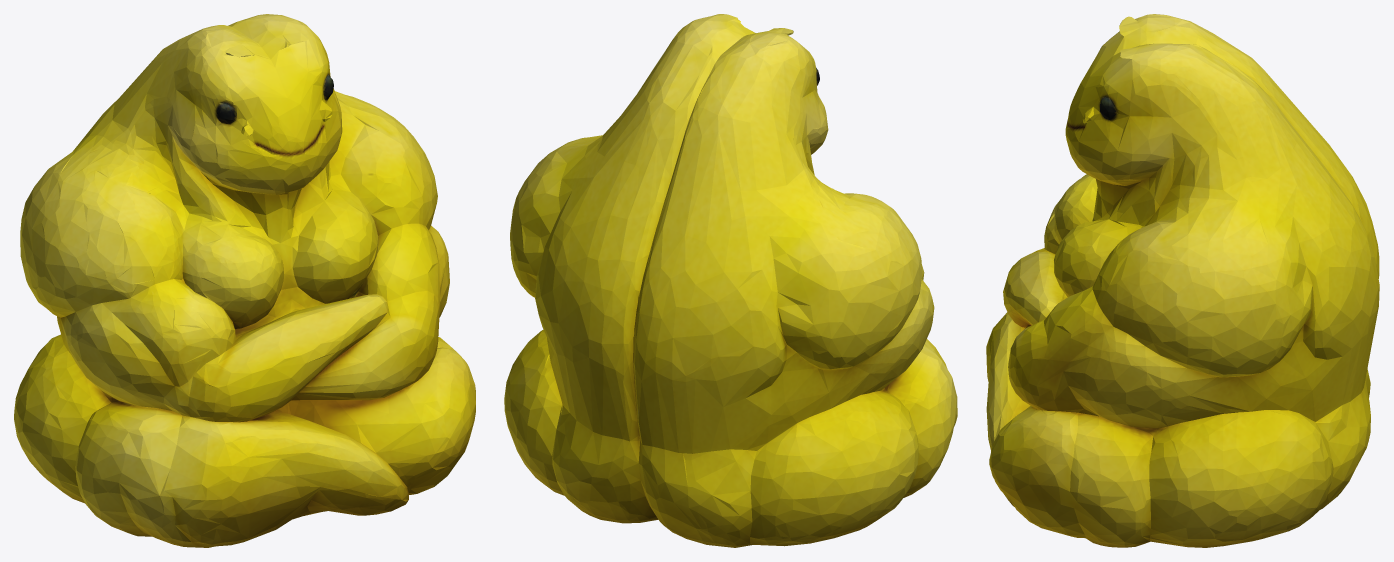
File: sigma-frog.glb
The picture shows the model from 3 angles, left to right: view 1: azimuth 30°, elevation 25°; view 2: azimuth 150°, elevation 25°; view 3: azimuth 270°, elevation 25°; orthographic projection.
Parts seen in each view (by area): view 1: geometry_0; view 2: geometry_0; view 3: geometry_0.
Part boxes in pixels (<box>): geometry_0: <box>14,14,475,547</box>; geometry_0: <box>504,14,957,547</box>; geometry_0: <box>986,14,1379,547</box>.
Bounding box in the file's own units: 0.0701 × 0.0779 × 0.0617.
Materials: 1 (1 with a texture image).
